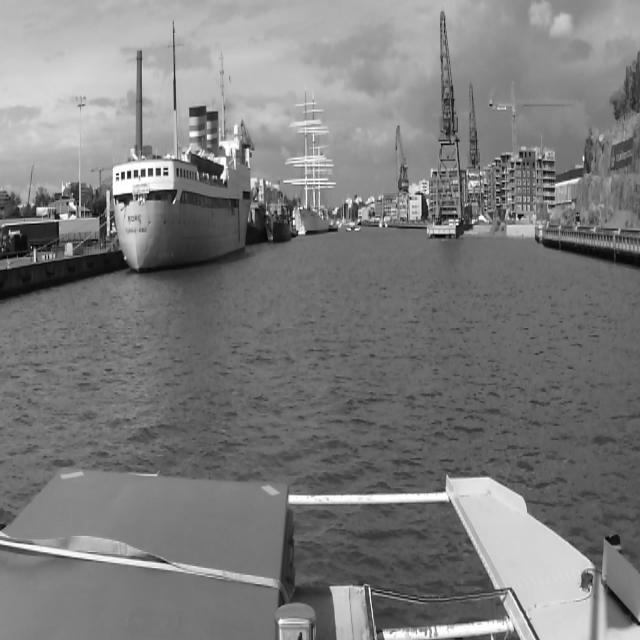ship: (118, 29, 252, 268), (283, 91, 335, 233), (269, 190, 291, 244), (246, 194, 266, 242), (378, 194, 388, 230)
